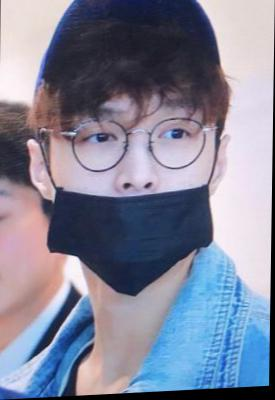WRONG: (46, 85, 218, 289)
